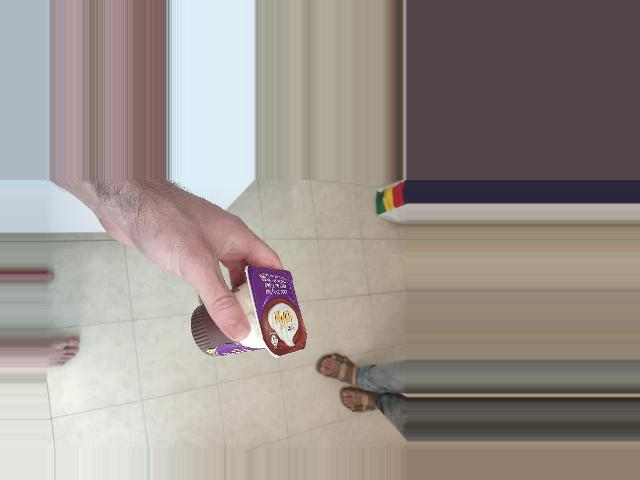milky: (229, 276, 315, 404)
